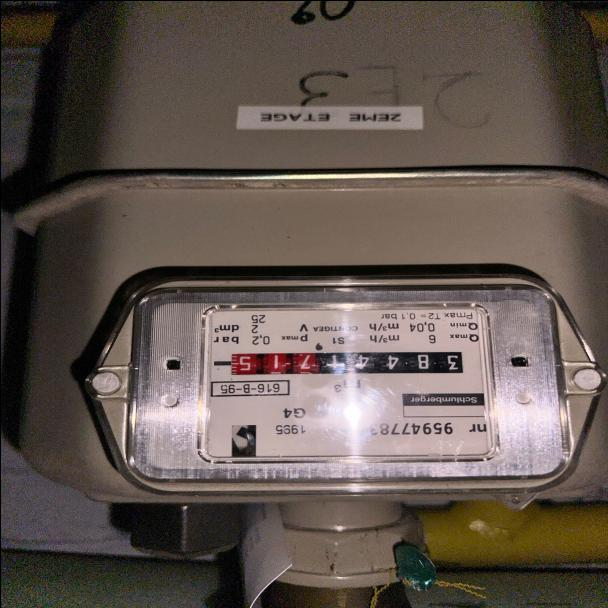1: (320, 350, 347, 374), (261, 352, 289, 375)
3: (440, 350, 464, 374)
4: (379, 350, 407, 374), (350, 353, 377, 373)
5: (232, 352, 262, 374)
7: (290, 352, 316, 376)
8: (410, 352, 438, 376)
cm: (230, 350, 316, 376)
counter: (316, 349, 466, 377)
